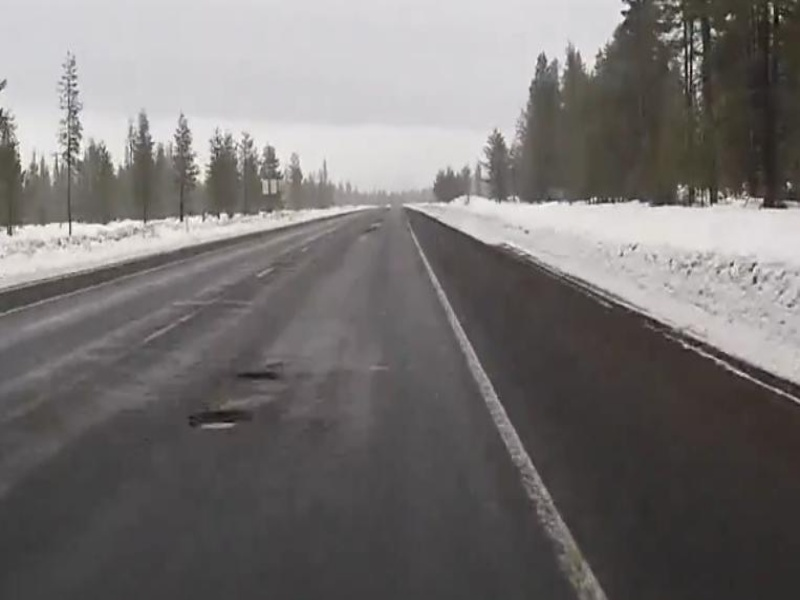pothole: (183, 408, 252, 434)
